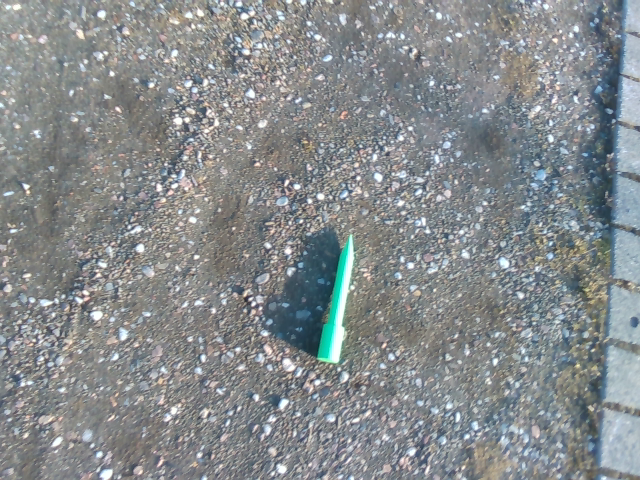Probe: (316, 228, 359, 369)
